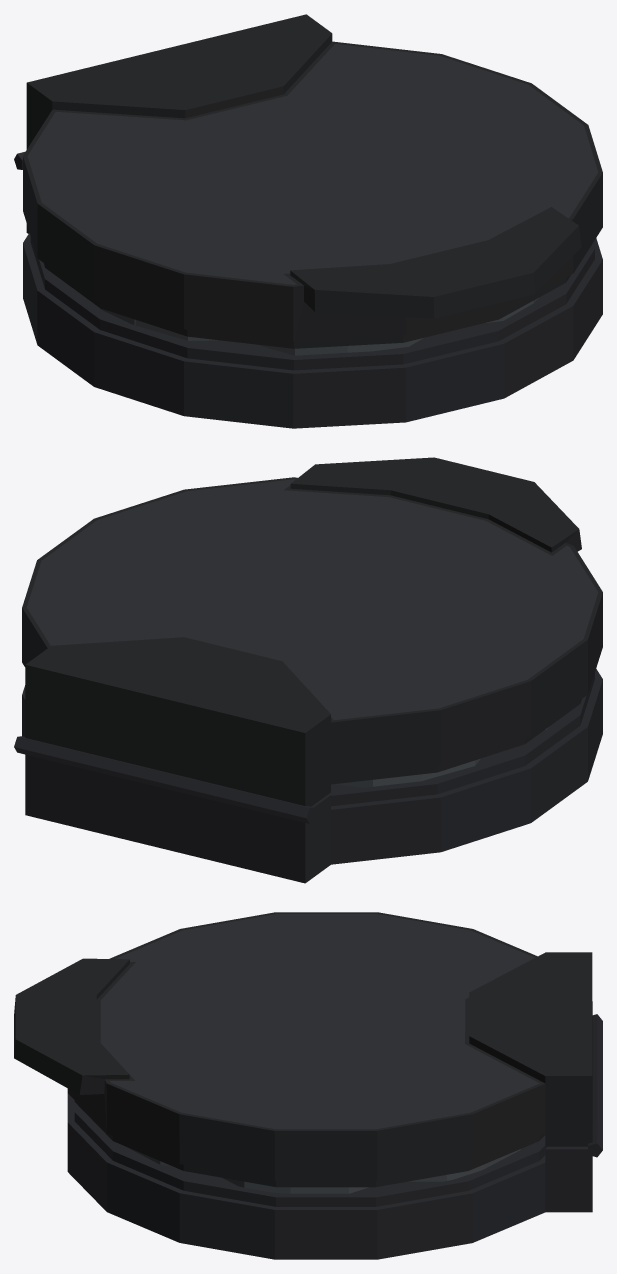
File: wafflemakers_01_E.gltf
3 views of the same model, one above another, from view 1: azimuth 30°, elevation 25°; view 2: azimuth 150°, elevation 25°; view 3: azimuth 270°, elevation 25° (orthographic). The views are drawn at different scales.
Visible parts, largest first — view 1: Capforwafflemakers_01_E, wafflemakers_01_E; view 2: Capforwafflemakers_01_E, wafflemakers_01_E; view 3: Capforwafflemakers_01_E, wafflemakers_01_E.
Boxes of the visible parts, <box> form: Capforwafflemakers_01_E: <box>23,14,602,348</box>; wafflemakers_01_E: <box>14,152,602,428</box>; Capforwafflemakers_01_E: <box>22,457,602,806</box>; wafflemakers_01_E: <box>14,669,602,883</box>; Capforwafflemakers_01_E: <box>14,912,592,1187</box>; wafflemakers_01_E: <box>67,1014,602,1259</box>.
Size of the model in its own units: 0.2298 by 0.0668 by 0.2615.
1 material, 1 textured.
